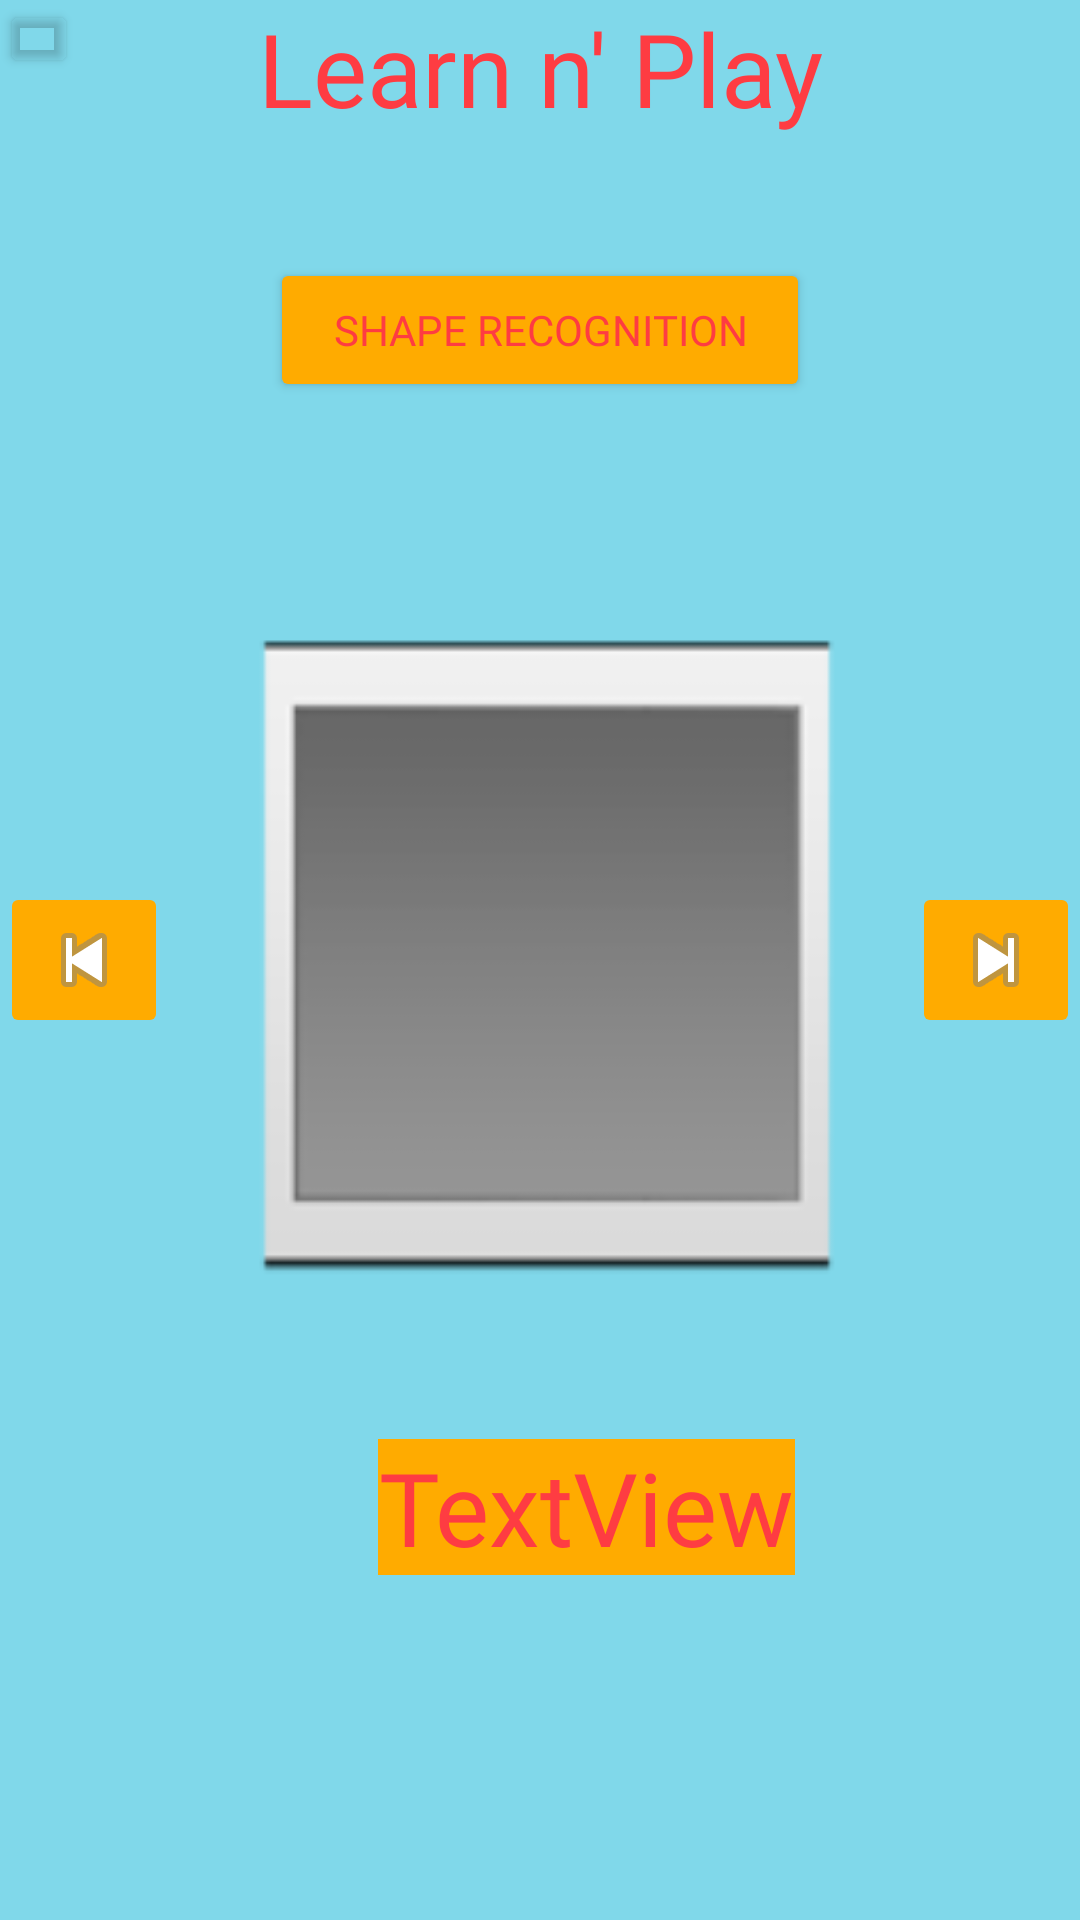

Icons on this 1080×1920 Android screen, each with its box as [x1=x1, y1=y1, x2=x2, y2=y2]:
next: [x1=924, y1=900, x2=1068, y2=1020]
previous: [x1=12, y1=900, x2=156, y2=1020]
